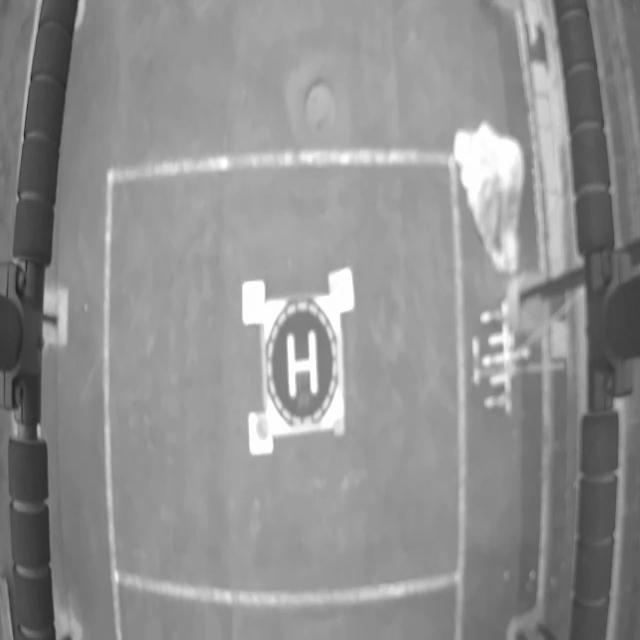Helipad: (288, 329, 320, 400)
